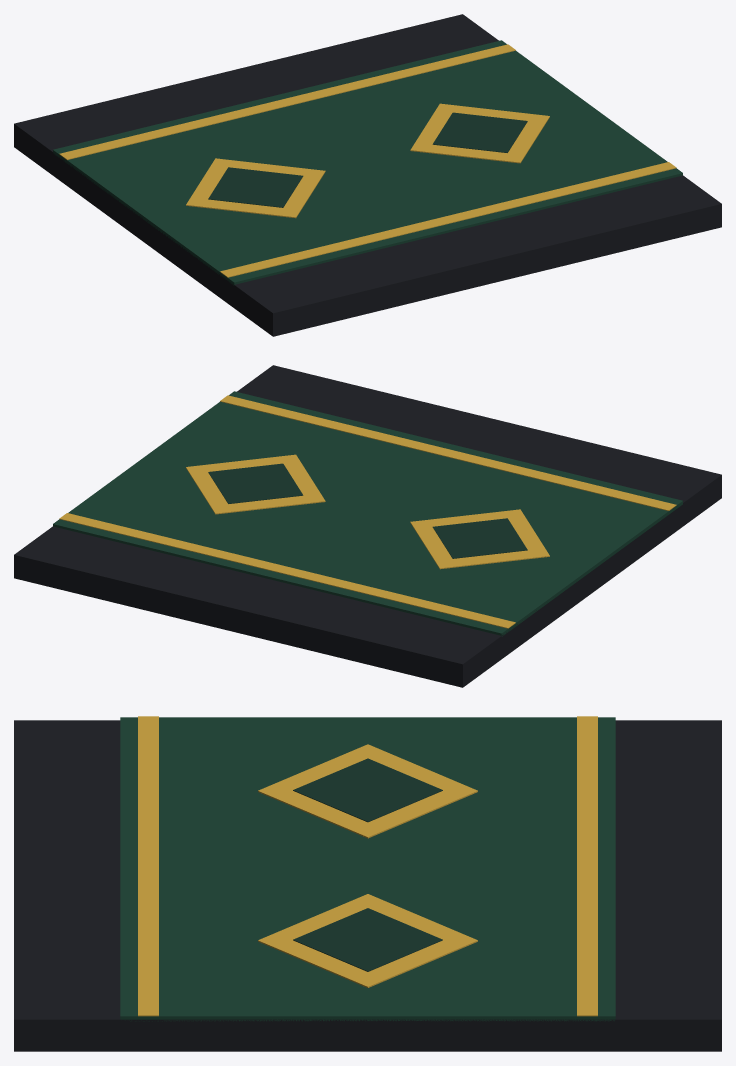
File: kit-newyork-floor-2.glb
The picture shows the model from 3 angles, top to bottom: view 1: azimuth 30°, elevation 25°; view 2: azimuth 150°, elevation 25°; view 3: azimuth 270°, elevation 25°; orthographic projection. The views are drawn at different scales.
Parts seen in each view (by area): view 1: kit-newyork-floor-2; view 2: kit-newyork-floor-2; view 3: kit-newyork-floor-2.
Boxes of the visible parts, <box> form: kit-newyork-floor-2: <box>14,14,721,336</box>; kit-newyork-floor-2: <box>14,365,721,687</box>; kit-newyork-floor-2: <box>14,716,721,1051</box>.
Size of the model in its own units: 2 by 0.116 by 2.
